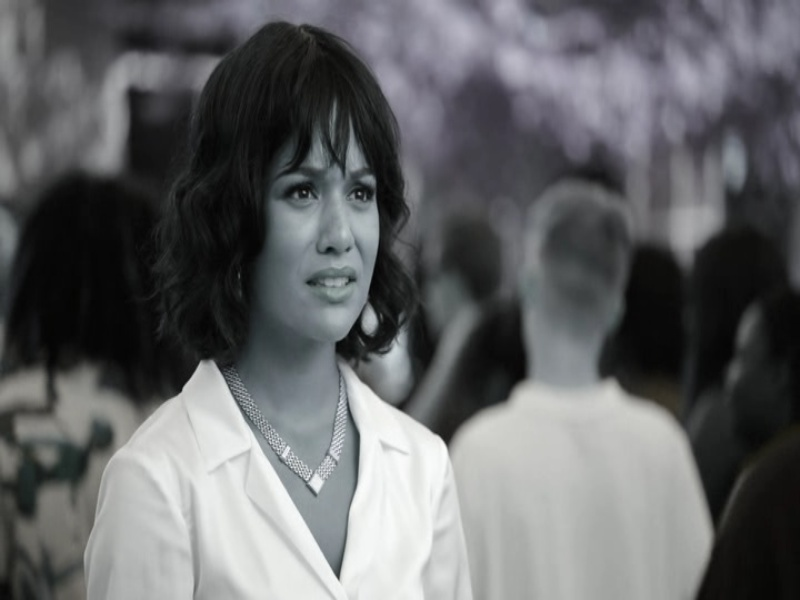TsisyArotava: (197, 45, 410, 367)
